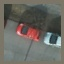car: (15, 18, 42, 43)
